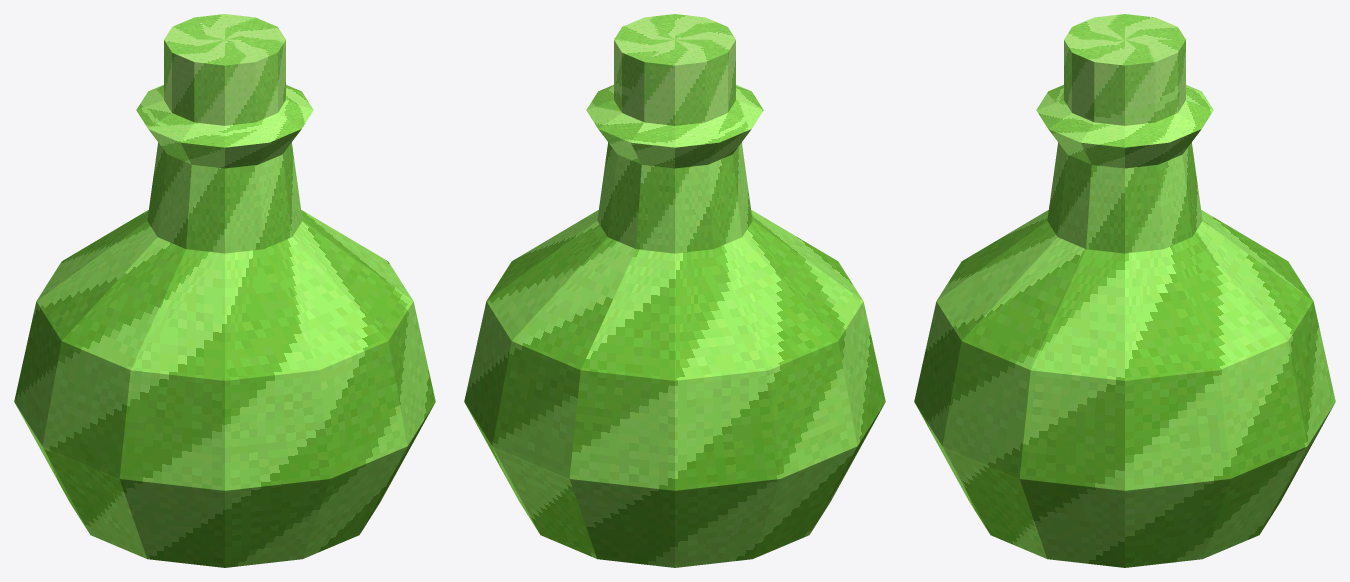
The model's file is antidoto.glb.
3 renders of one model, left to right at view 1: azimuth 30°, elevation 25°; view 2: azimuth 150°, elevation 25°; view 3: azimuth 270°, elevation 25°, orthographic.
Parts seen in each view (by area): view 1: antidoto; view 2: antidoto; view 3: antidoto.
Part boxes in pixels (<box>): antidoto: <box>14,14,435,567</box>; antidoto: <box>464,14,885,567</box>; antidoto: <box>914,14,1335,567</box>.
Bounding box in the file's own units: 0.1824 × 0.2304 × 0.1824.
Materials: 1 (1 with a texture image).
